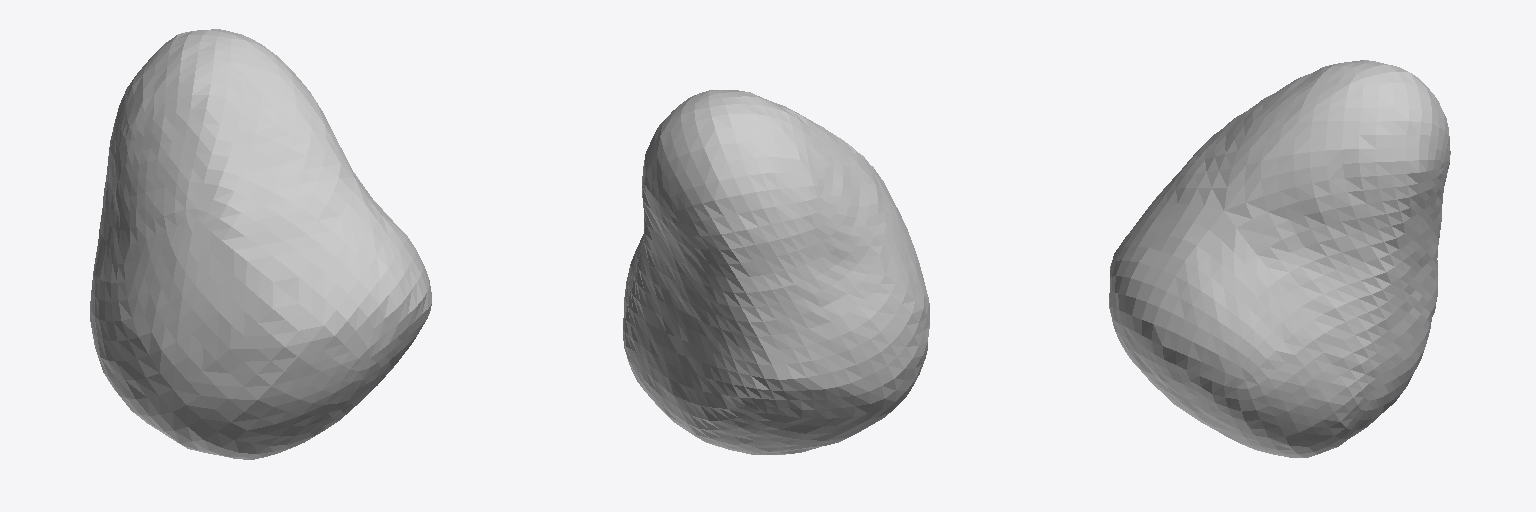
The model's file is obstacle3.obj.
3 renders of one model, left to right at view 1: azimuth 30°, elevation 25°; view 2: azimuth 150°, elevation 25°; view 3: azimuth 270°, elevation 25°, orthographic.
Visible parts, largest first — view 1: rock; view 2: rock; view 3: rock.
Boxes of the visible parts, box(x1,y1,x2,y2) form: rock: box(90, 29, 431, 459); rock: box(623, 90, 929, 454); rock: box(1109, 60, 1450, 457).
Bounding box in the file's own units: 0.8494 × 1.07 × 0.8786.